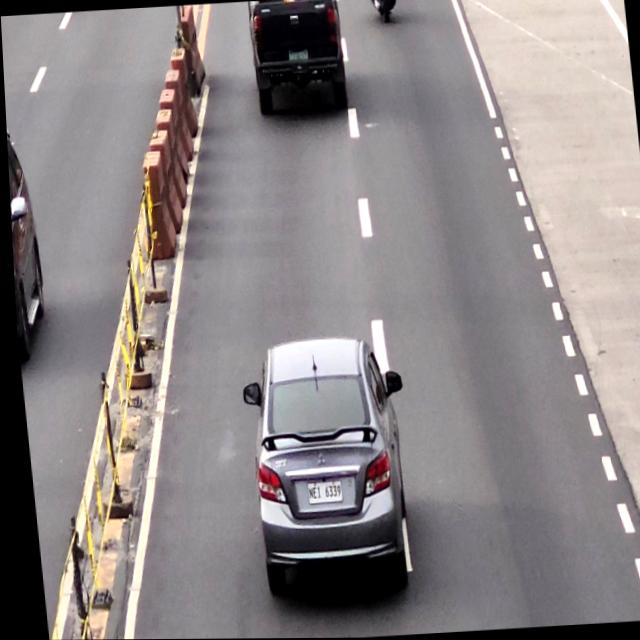Car: (240, 341, 409, 596), (244, 0, 349, 119)
License-Plate: (302, 480, 339, 505)
